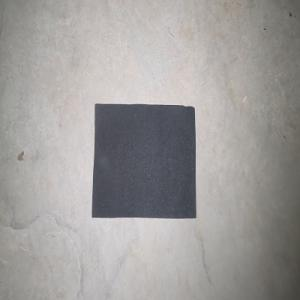PaintChip: (91, 103, 196, 218)
